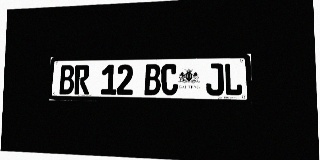1: (101, 64, 117, 95)
2: (117, 64, 133, 95)
B: (144, 64, 161, 95), (59, 65, 74, 94)
C: (161, 64, 178, 95)
J: (206, 63, 224, 96)
L: (224, 63, 242, 96)
R: (74, 65, 90, 94)
